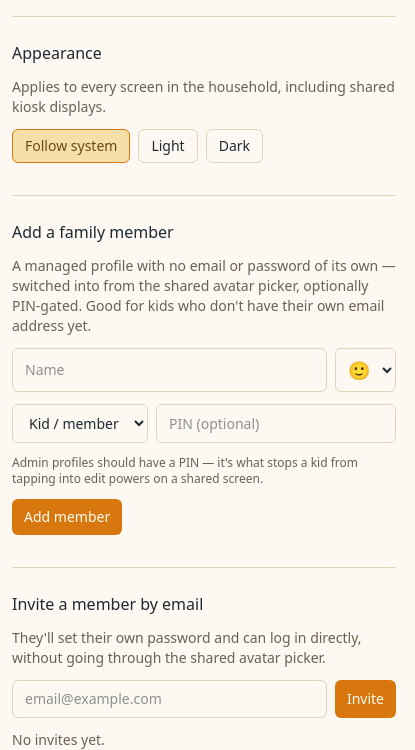
Scenario: HouseholdPage › shows the email-failed notice when invite email delivery fails
(page scrolled)
Type "friend@example.com" into the field with placeholder "email@example.com". click: [169, 699]
box: [12, 680, 327, 718]
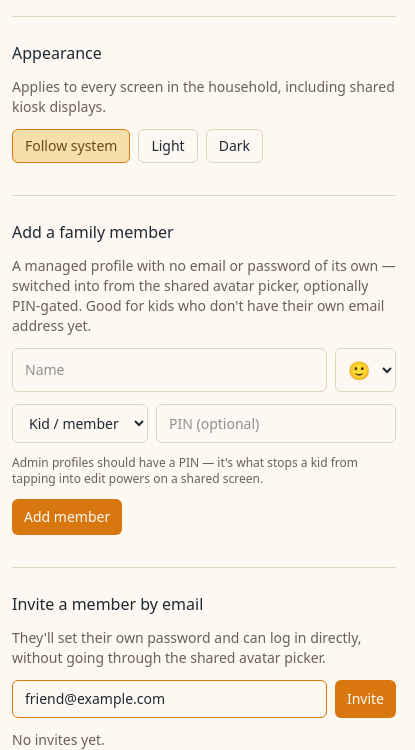
Click the button "Invite". click: [365, 699]
box: [335, 680, 396, 718]
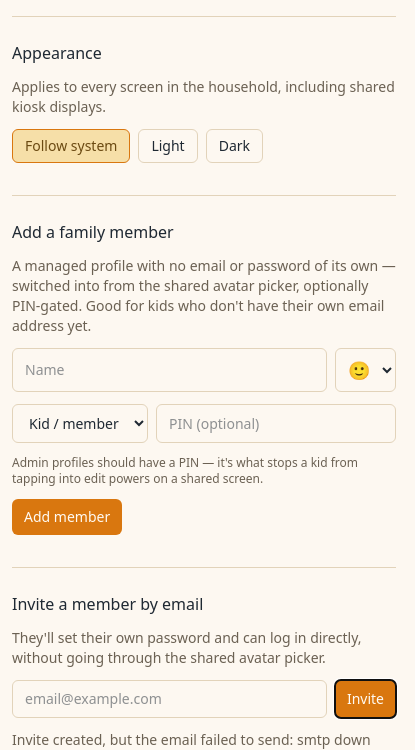
expect the text "Invite created, but the email failed to send: smtp down" is shown: met, box [12, 730, 396, 749]
